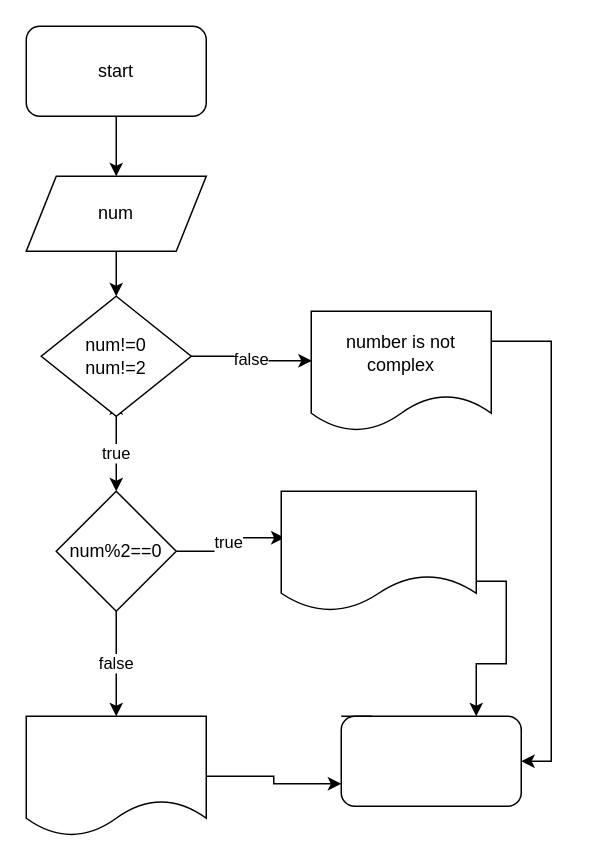
Some shapes in this 590 by 863 pixel diagram are drawn without their labels. The shapes that lost their labels are listed below. From the top down, each one's centre as x and y in pixels, then its label:
At [378,550]: "number is complex".
At [115,775]: "number is prime".
At [430,760]: "end".
